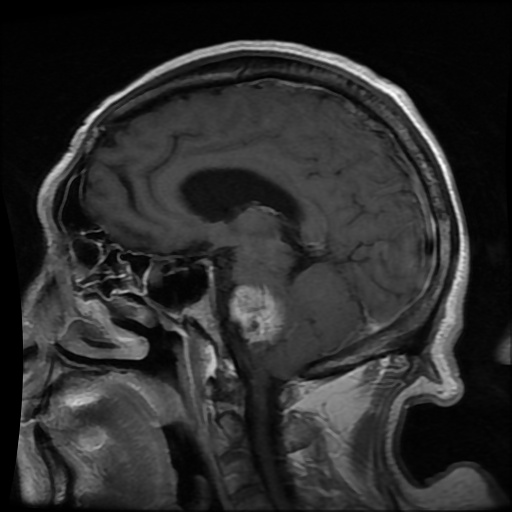meningioma: (228, 283, 284, 344)
